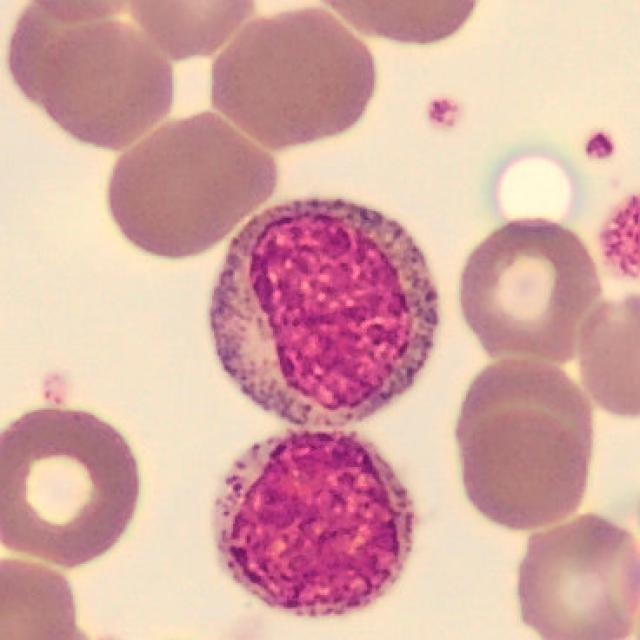Mielocito: (209, 199, 440, 427)
